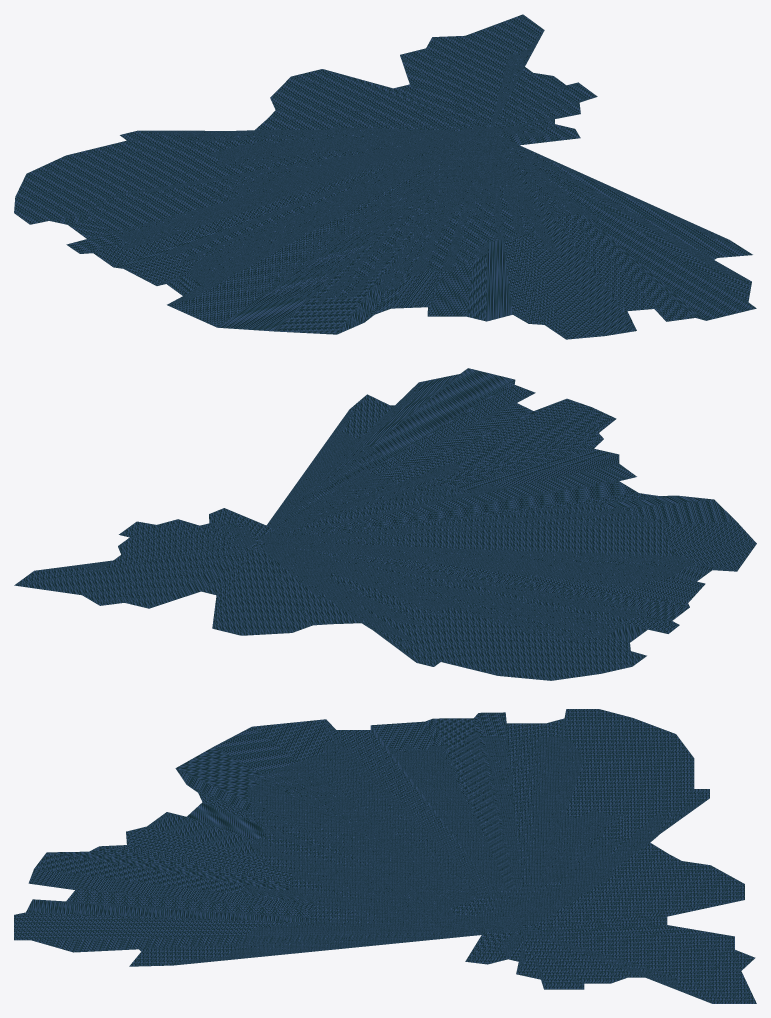
File: yw_xuesebingfeng_zudang03.FBX
3 views of the same model, one above another, from view 1: azimuth 30°, elevation 25°; view 2: azimuth 150°, elevation 25°; view 3: azimuth 270°, elevation 25° (orthographic). The views are drawn at different scales.
Parts seen in each view (by area): view 1: yw_xuesebingfeng_zudang03; view 2: yw_xuesebingfeng_zudang03; view 3: yw_xuesebingfeng_zudang03.
Part boxes in pixels (x1,y1,x2,y2): yw_xuesebingfeng_zudang03: (14,14,756,339); yw_xuesebingfeng_zudang03: (14,368,756,680); yw_xuesebingfeng_zudang03: (14,709,756,1003).
Size of the model in its own units: 8631 by 2.73e-12 by 9190.
